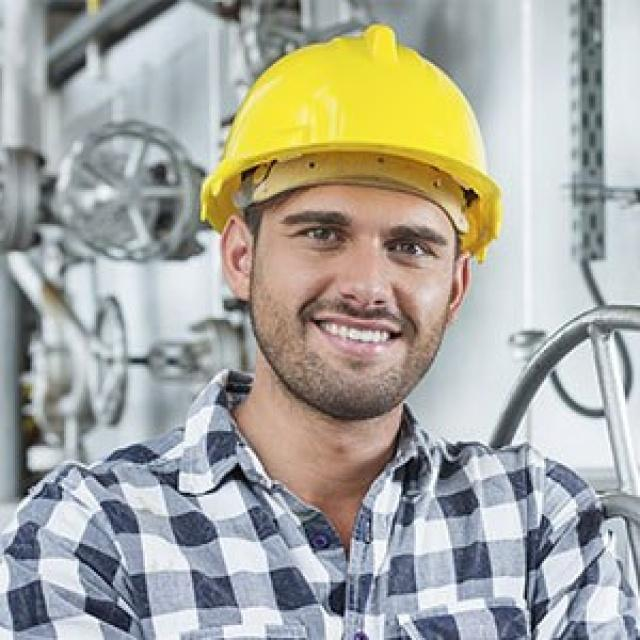helmet: (195, 32, 504, 564)
